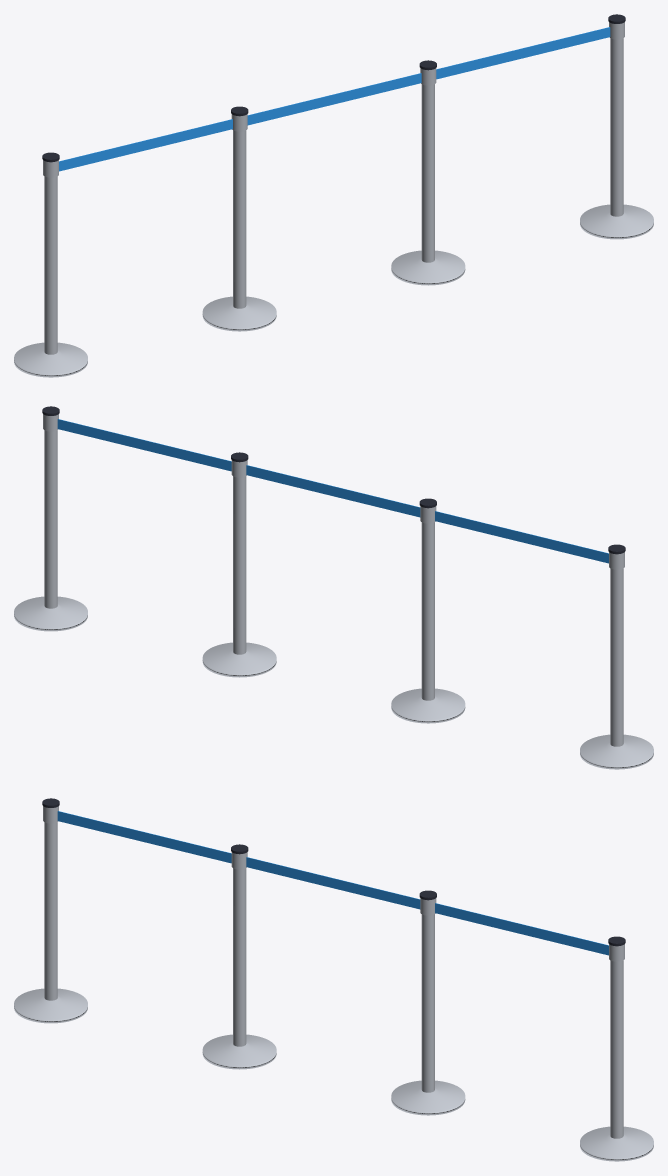
The model's file is hos-019.glb.
3 renders of one model, top to bottom at view 1: azimuth 30°, elevation 25°; view 2: azimuth 150°, elevation 25°; view 3: azimuth 330°, elevation 25°, orthographic.
Parts seen in each view (by area): view 1: stainless, plastic_blue, plastic_dark; view 2: stainless, plastic_blue, plastic_dark; view 3: stainless, plastic_blue, plastic_dark.
Part boxes in pixels (x1,y1,x2,y2): stainless: (14, 22, 653, 377); plastic_blue: (59, 27, 610, 171); plastic_dark: (42, 14, 625, 162); stainless: (14, 414, 653, 769); plastic_blue: (57, 419, 608, 563); plastic_dark: (42, 406, 625, 554); stainless: (14, 806, 653, 1161); plastic_blue: (57, 811, 608, 955); plastic_dark: (42, 798, 625, 946).
Size of the model in its own units: 3.34 by 1.04 by 0.34.
